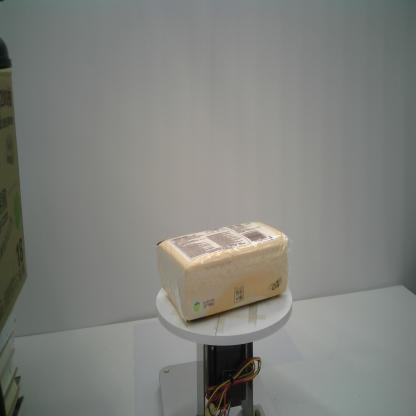Tissue: (154, 219, 290, 325)
